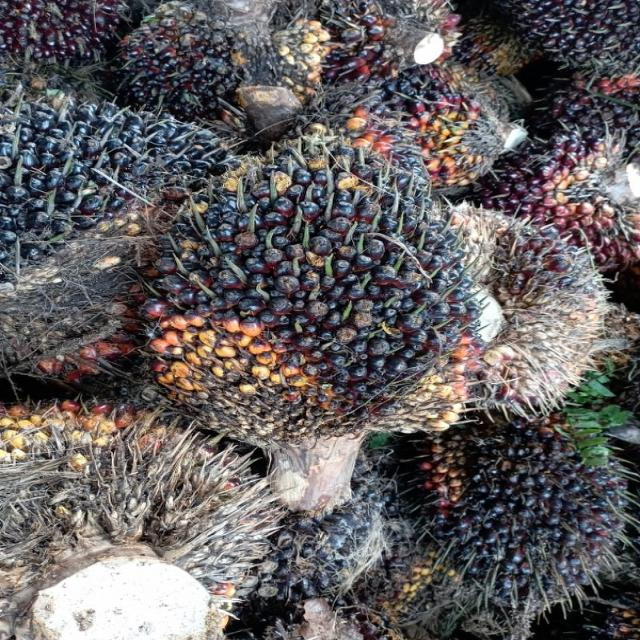fraksi 00: (154, 114, 484, 430), (0, 87, 235, 297), (418, 411, 638, 614), (125, 0, 327, 120), (506, 112, 640, 272), (350, 61, 516, 179), (530, 0, 640, 92), (0, 0, 123, 77)
